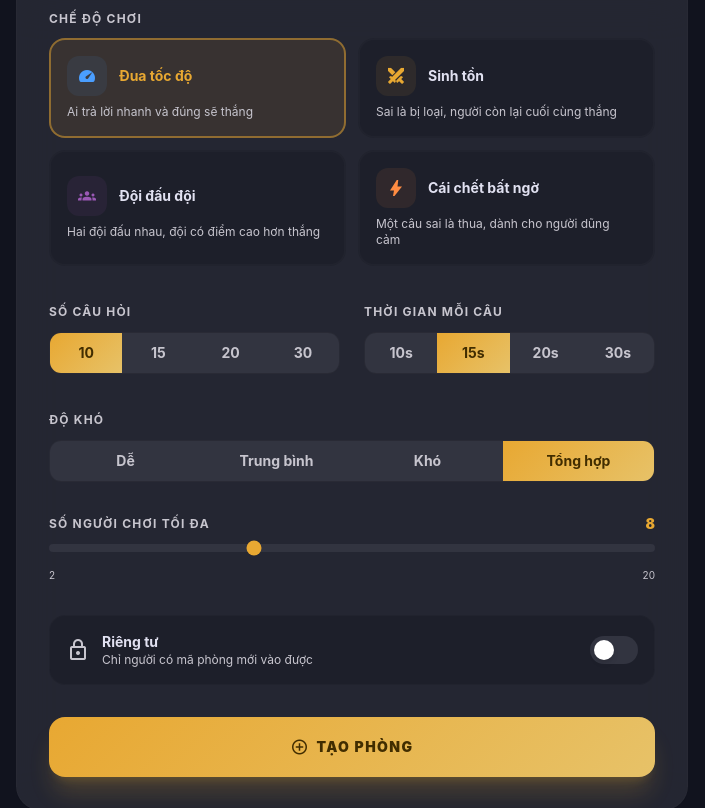
CreateRoom › shows error message on API failure
The width and height of the screenshot is (705, 808).
(page scrolled)
Click the submit button at (352, 747), box [49,717,655,777]
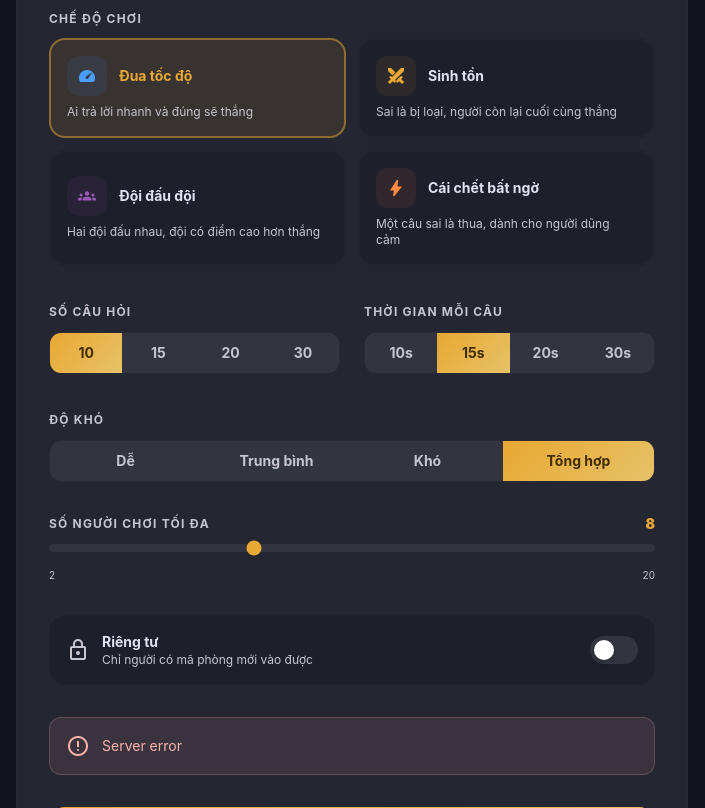
Expected: the text "Server error" is shown, [102,736,182,756]
